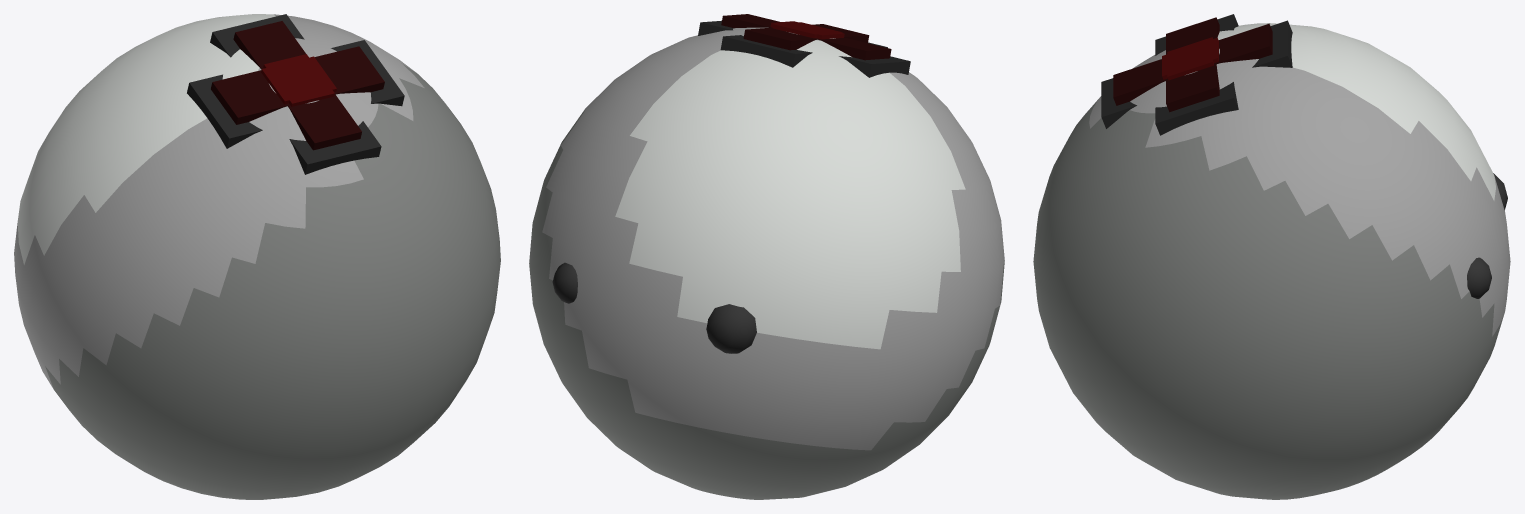
Rendered from seeker_mine.glb.
The picture shows the model from 3 angles, left to right: view 1: azimuth 30°, elevation 25°; view 2: azimuth 150°, elevation 25°; view 3: azimuth 270°, elevation 25°; orthographic projection. The views are drawn at different scales.
Parts seen in each view (by area): view 1: seeker_mine; view 2: seeker_mine; view 3: seeker_mine.
Boxes of the visible parts, left/top/right/bottom form: seeker_mine: left=14, top=14, right=500, bottom=499; seeker_mine: left=529, top=14, right=1004, bottom=499; seeker_mine: left=1033, top=14, right=1510, bottom=499.
Bounding box in the file's own units: 8.9 × 9.11 × 8.9.
